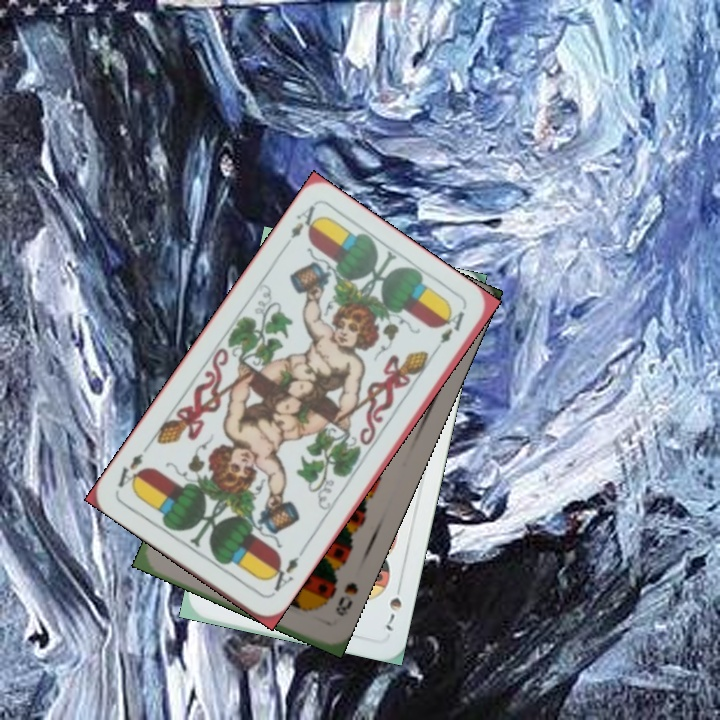EA: (280, 201, 324, 253), (264, 546, 306, 599)
S7: (381, 578, 405, 634)
S8: (331, 578, 361, 619)
